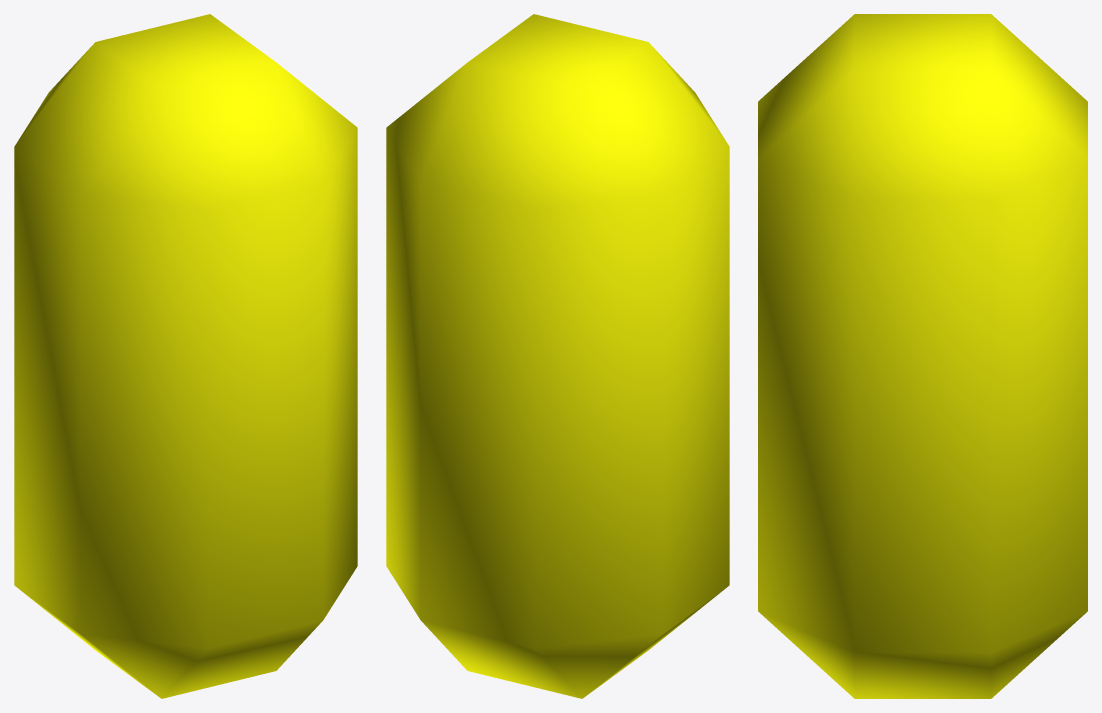
Rendered from lower_wrist_link.bbox.gltf.
3 views of the same model, side by side, from view 1: azimuth 30°, elevation 25°; view 2: azimuth 150°, elevation 25°; view 3: azimuth 270°, elevation 25° (orthographic). The views are drawn at different scales.
Parts seen in each view (by area): view 1: lower_wrist_link.bbox; view 2: lower_wrist_link.bbox; view 3: lower_wrist_link.bbox.
Boxes of the visible parts, x1,y1,x2,y2 form: lower_wrist_link.bbox: (14, 14, 357, 698); lower_wrist_link.bbox: (386, 14, 729, 698); lower_wrist_link.bbox: (758, 14, 1087, 698).
Bounding box in the file's own units: 0.0655 × 0.1375 × 0.0655.
